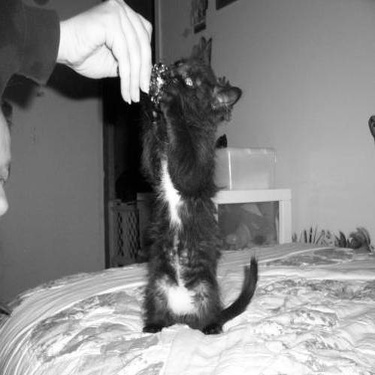cat: (354, 94, 372, 153)
